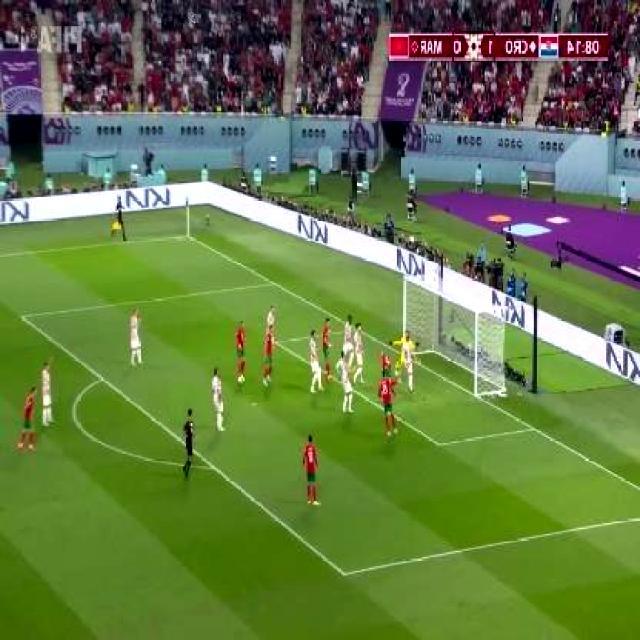bigarea_bottom_inner: (334, 557, 357, 588)
bigarea_top_inner: (14, 304, 32, 328)
bigarea_top_outter: (266, 272, 283, 292)
bottom_arc_area_intersection: (204, 454, 224, 478)
corner: (178, 228, 198, 243)
smallarea_bottom_inner: (431, 431, 449, 457)
smallarea_bottom_outter: (523, 415, 543, 440)
smallarea_top_inner: (269, 331, 283, 351)
top_arc_area_intersection: (94, 366, 111, 388)
